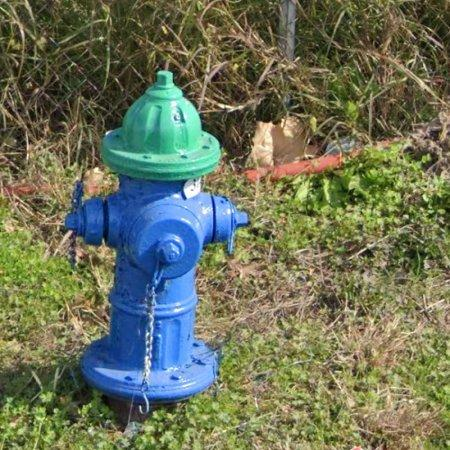a fire hydrant: (65, 71, 249, 415)
